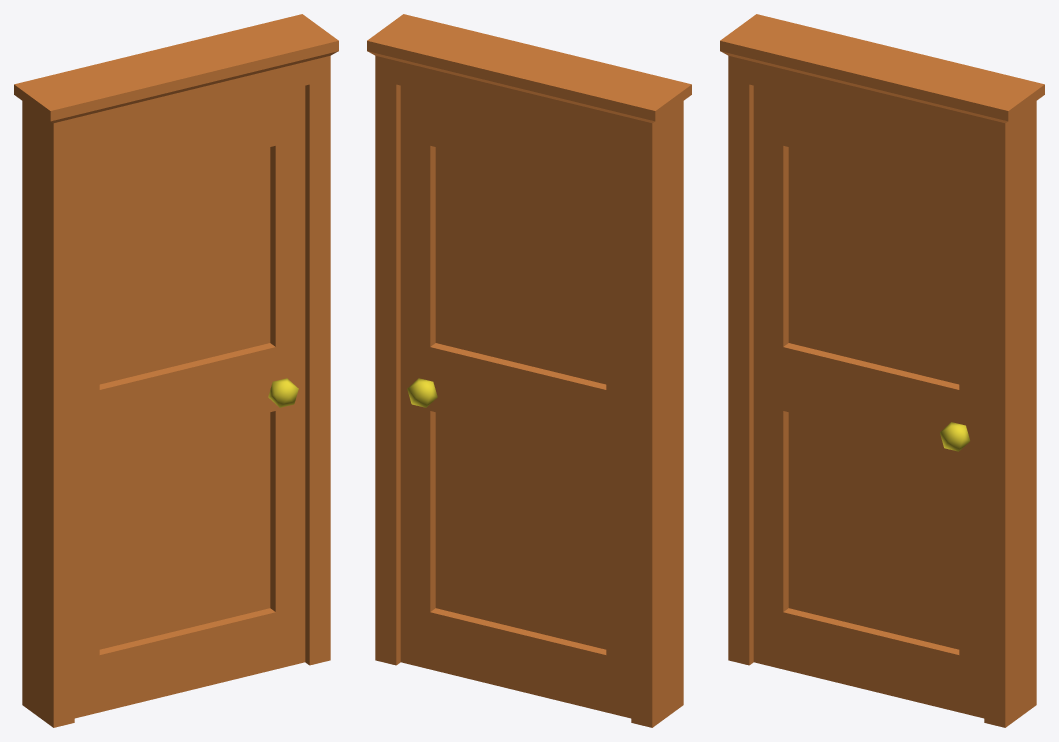
Rendered from door_01.fbx.
3 renders of one model, left to right at view 1: azimuth 30°, elevation 25°; view 2: azimuth 150°, elevation 25°; view 3: azimuth 330°, elevation 25°, orthographic.
Parts seen in each view (by area): view 1: WoodenDoorChild, WoodenDoor, WoodenDoorKnob; view 2: WoodenDoorChild, WoodenDoor, WoodenDoorKnob; view 3: WoodenDoorChild, WoodenDoor, WoodenDoorKnob.
Boxes of the visible parts, x1=… form: WoodenDoorChild: x1=74, y1=85, x2=305, y2=718; WoodenDoor: x1=14, y1=14, x2=338, y2=727; WoodenDoorKnob: x1=268, y1=378, x2=298, y2=407; WoodenDoorChild: x1=400, y1=85, x2=631, y2=718; WoodenDoor: x1=367, y1=14, x2=691, y2=727; WoodenDoorKnob: x1=407, y1=378, x2=437, y2=407; WoodenDoorChild: x1=753, y1=85, x2=984, y2=718; WoodenDoor: x1=720, y1=14, x2=1044, y2=727; WoodenDoorKnob: x1=940, y1=422, x2=970, y2=451.
Bounding box in the file's own units: 106 × 218 × 29.52.
